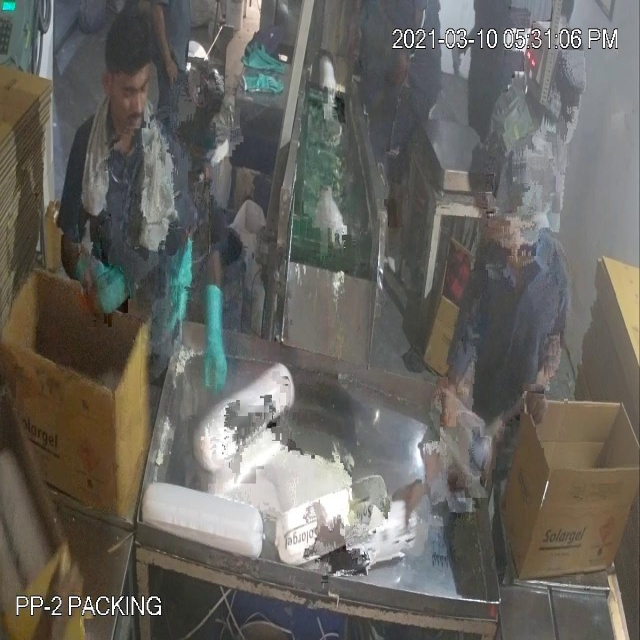Guantes: (194, 268, 245, 420)
Sin_guantes: (470, 314, 572, 490)
